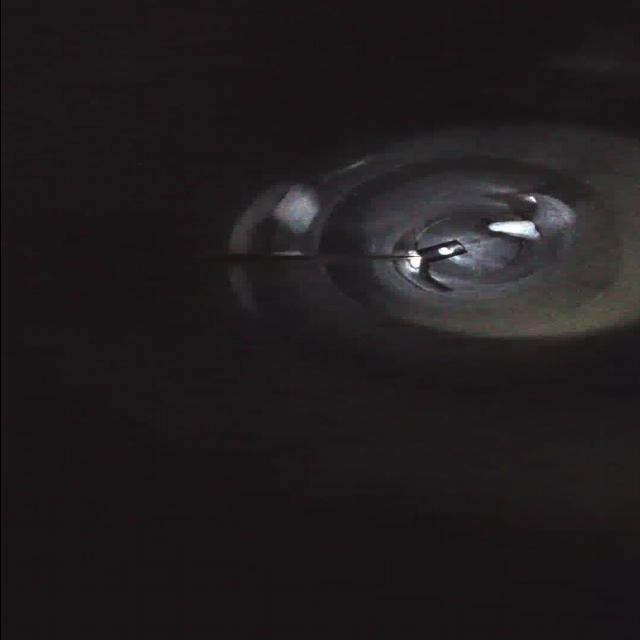impurity: (480, 212, 552, 248)
